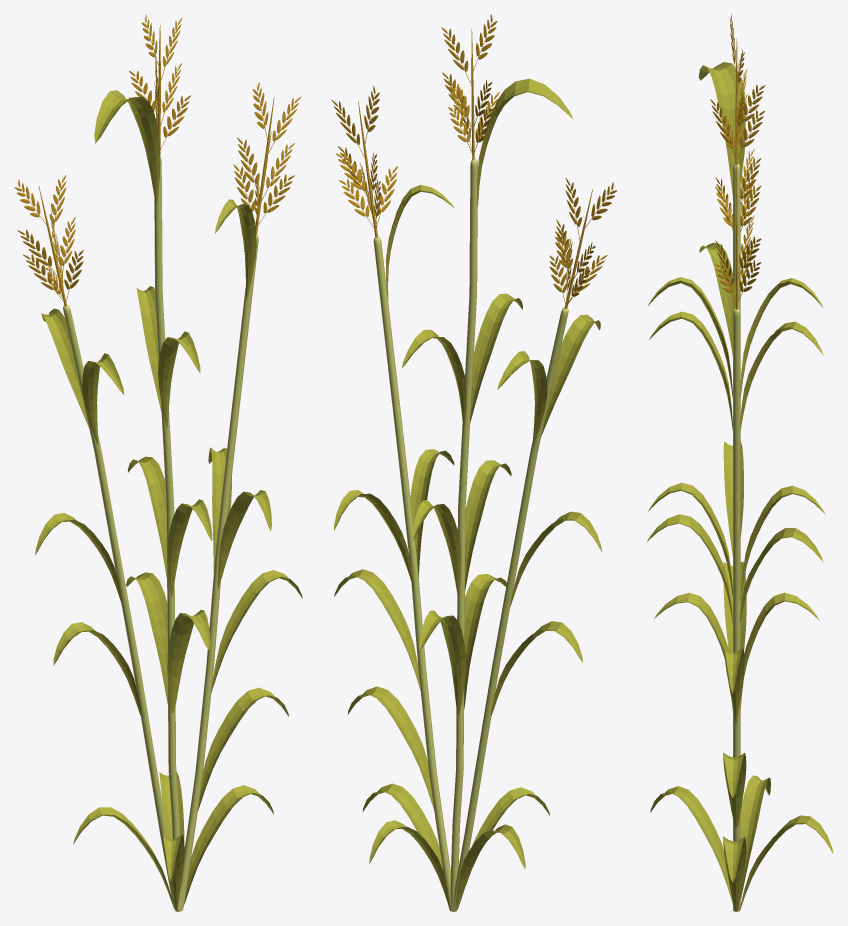
File: Pad4.fbx
3 views of the same model, side by side, from view 1: azimuth 30°, elevation 25°; view 2: azimuth 150°, elevation 25°; view 3: azimuth 270°, elevation 25° (orthographic). The views are drawn at different scales.
Parts seen in each view (by area): view 1: Vert.001; view 2: Vert.001; view 3: Vert.001.
Boxes of the visible parts, x1,y1,x2,y2 form: Vert.001: [14, 14, 302, 911]; Vert.001: [331, 14, 617, 911]; Vert.001: [646, 14, 833, 911].
Bounding box in the file's own units: 1187 × 3578 × 690.
